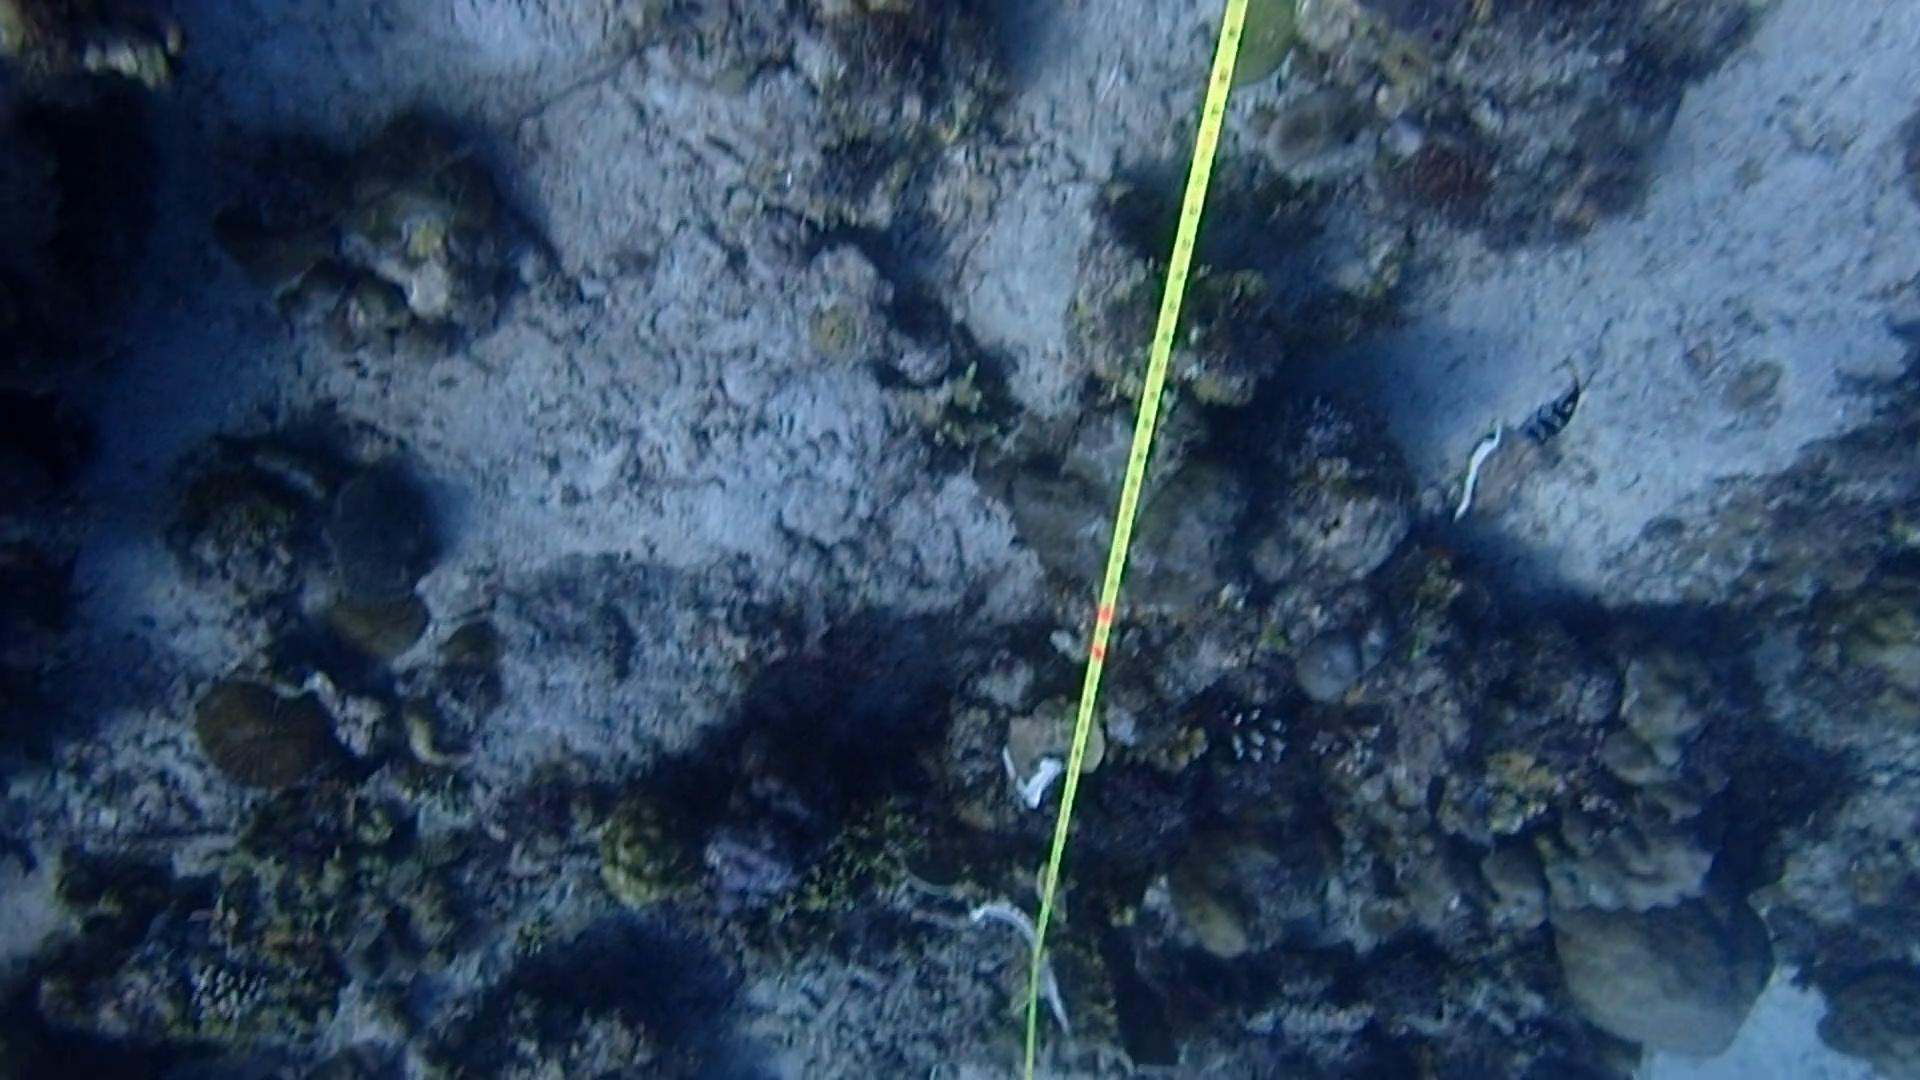Striped Fish: (1515, 360, 1604, 459)
